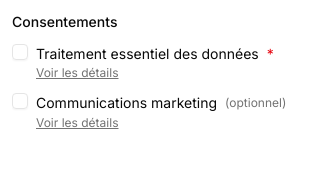
Test: ConsentStep › should toggle description visibility
Expected: the text "Nécessaire au fonctionnement du service" is not shown
Click "Voir les détails"
Step 1. Click the button "Voir les détails" below "Traitement essentiel des données" → (77, 73), box [36, 65, 118, 81]
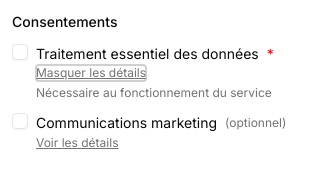
Expected: the text "Nécessaire au fonctionnement du service" is shown, [36, 85, 272, 100]
